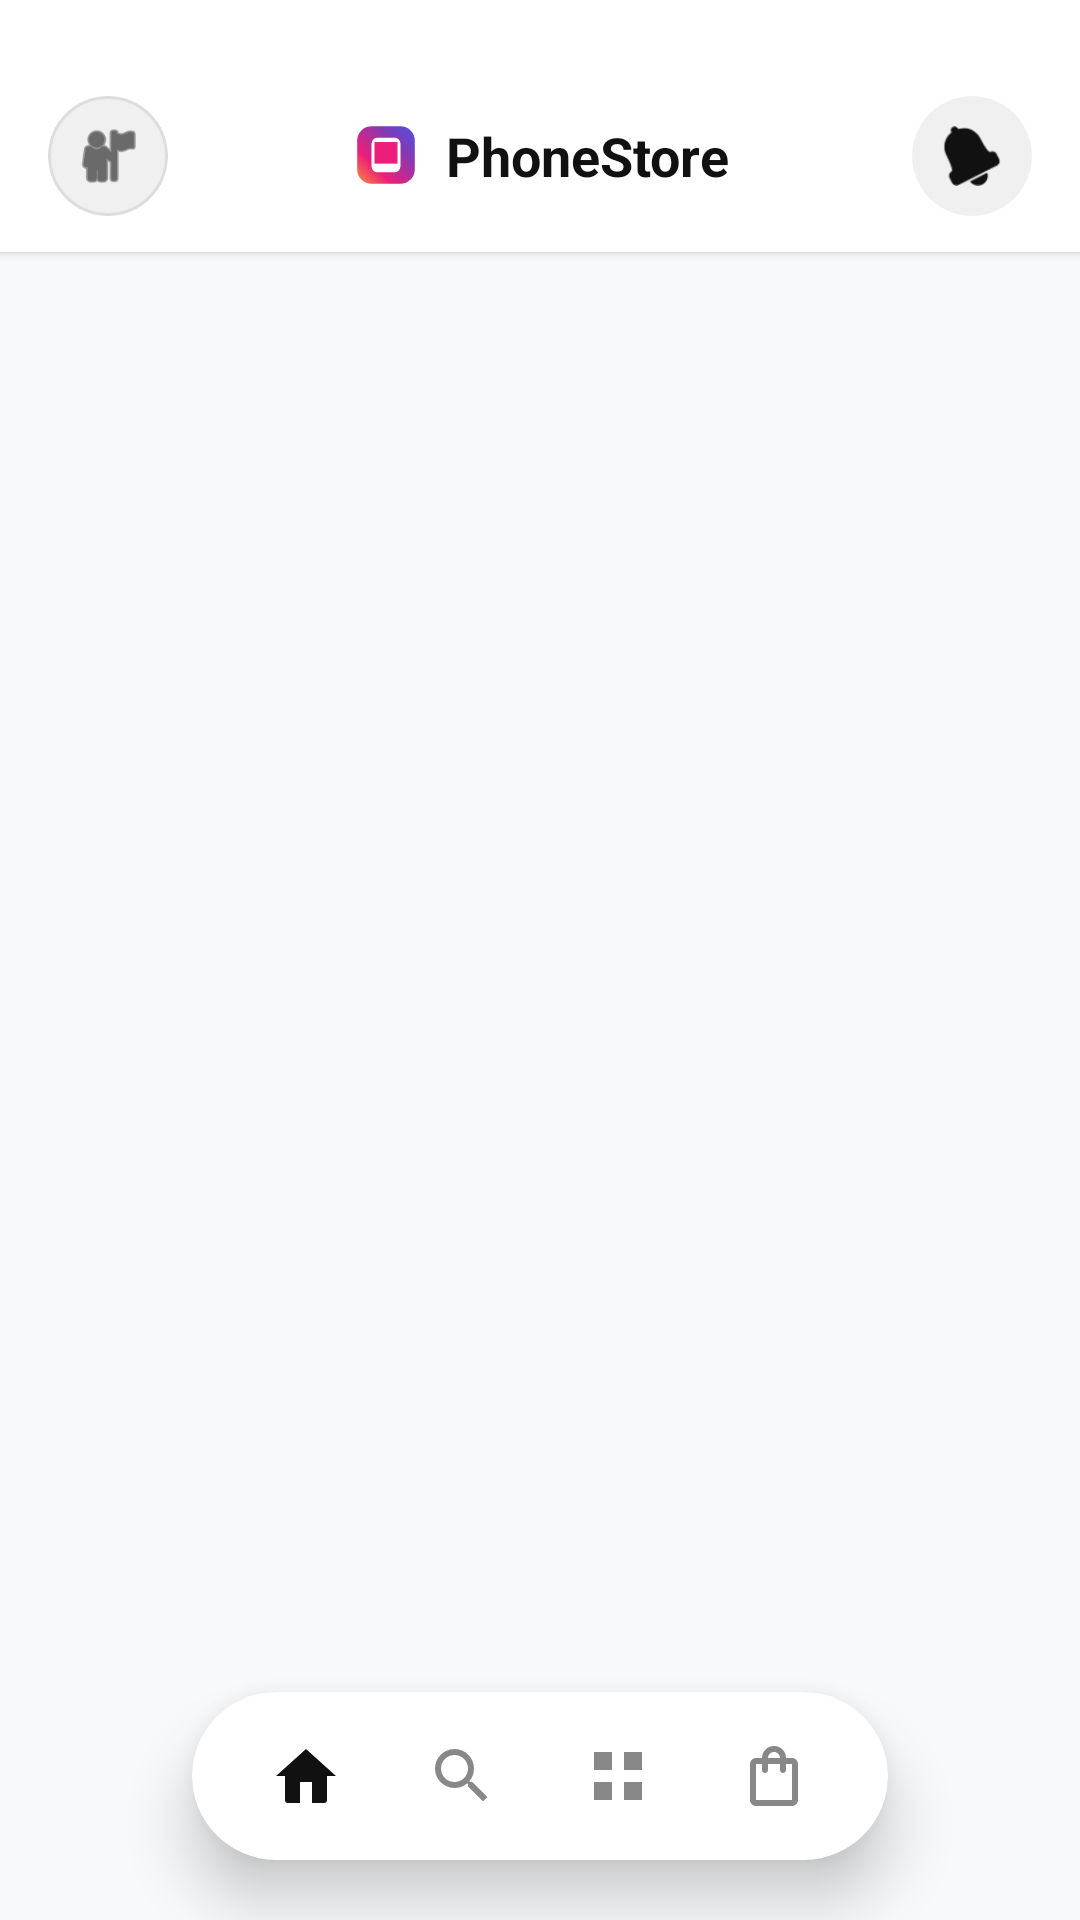

Point at icon controls on the screen. Image size 1080*1920, points as point (x, y).
Danh mục & Sản phẩm: point (618, 1776)
Giỏ hàng: point (774, 1776)
Notification: point (971, 156)
Trang chủ: point (306, 1776)
Tìm kiếm: point (461, 1775)
User Account: point (108, 156)
